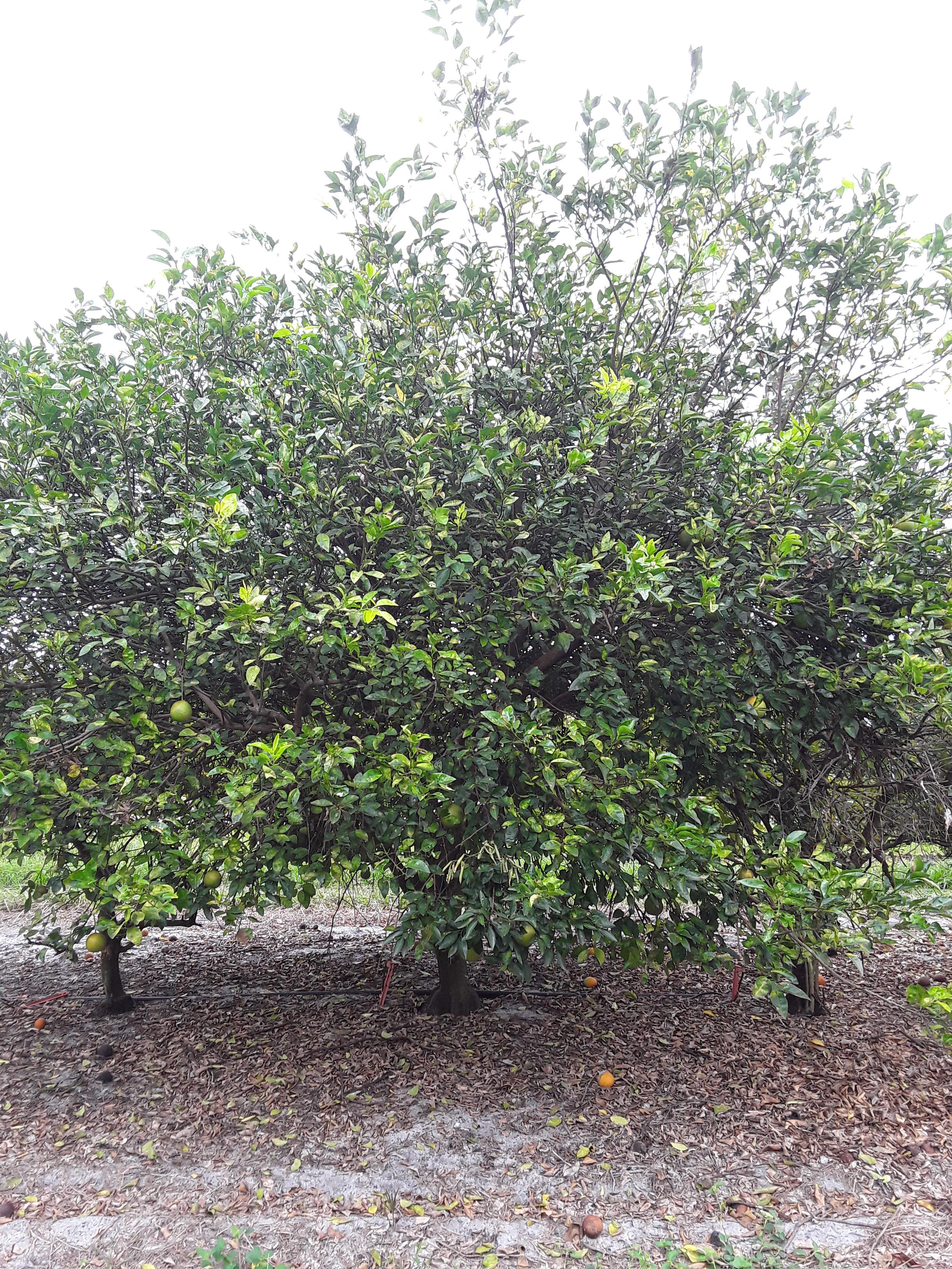fruit_on_ground: (508, 920, 539, 949), (436, 803, 468, 830), (741, 694, 770, 722), (167, 696, 194, 725), (457, 939, 486, 964), (81, 929, 108, 955), (693, 523, 720, 549), (673, 527, 698, 551), (202, 867, 224, 890), (642, 895, 666, 916), (733, 862, 754, 883)
fruit_on_tree: (581, 1215, 605, 1239), (596, 1070, 616, 1089), (916, 974, 931, 988), (582, 976, 598, 989), (32, 1017, 48, 1030), (933, 973, 949, 984), (815, 973, 826, 985), (586, 945, 597, 957), (138, 928, 151, 937), (82, 952, 96, 960)
